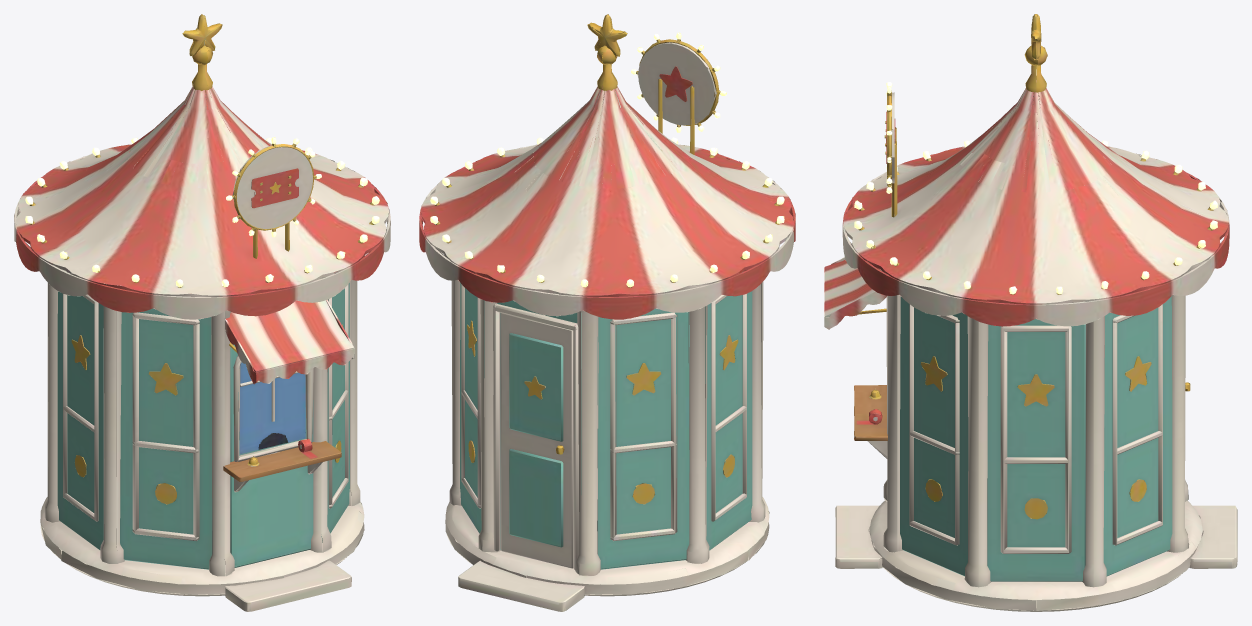
Rendered from taquilla.glb.
3 views of the same model, side by side, from view 1: azimuth 30°, elevation 25°; view 2: azimuth 150°, elevation 25°; view 3: azimuth 270°, elevation 25° (orthographic). The views are drawn at different scales.
Visible parts, largest first — view 1: ticket-booth_body; view 2: ticket-booth_body; view 3: ticket-booth_body.
Part boxes in pixels (left/top/right/bottom): ticket-booth_body: left=14, top=14, right=390, bottom=611; ticket-booth_body: left=419, top=14, right=795, bottom=611; ticket-booth_body: left=824, top=14, right=1237, bottom=611.
Bounding box in the file's own units: 2.65 × 4 × 2.83.
Materials: 2 (1 with a texture image).
